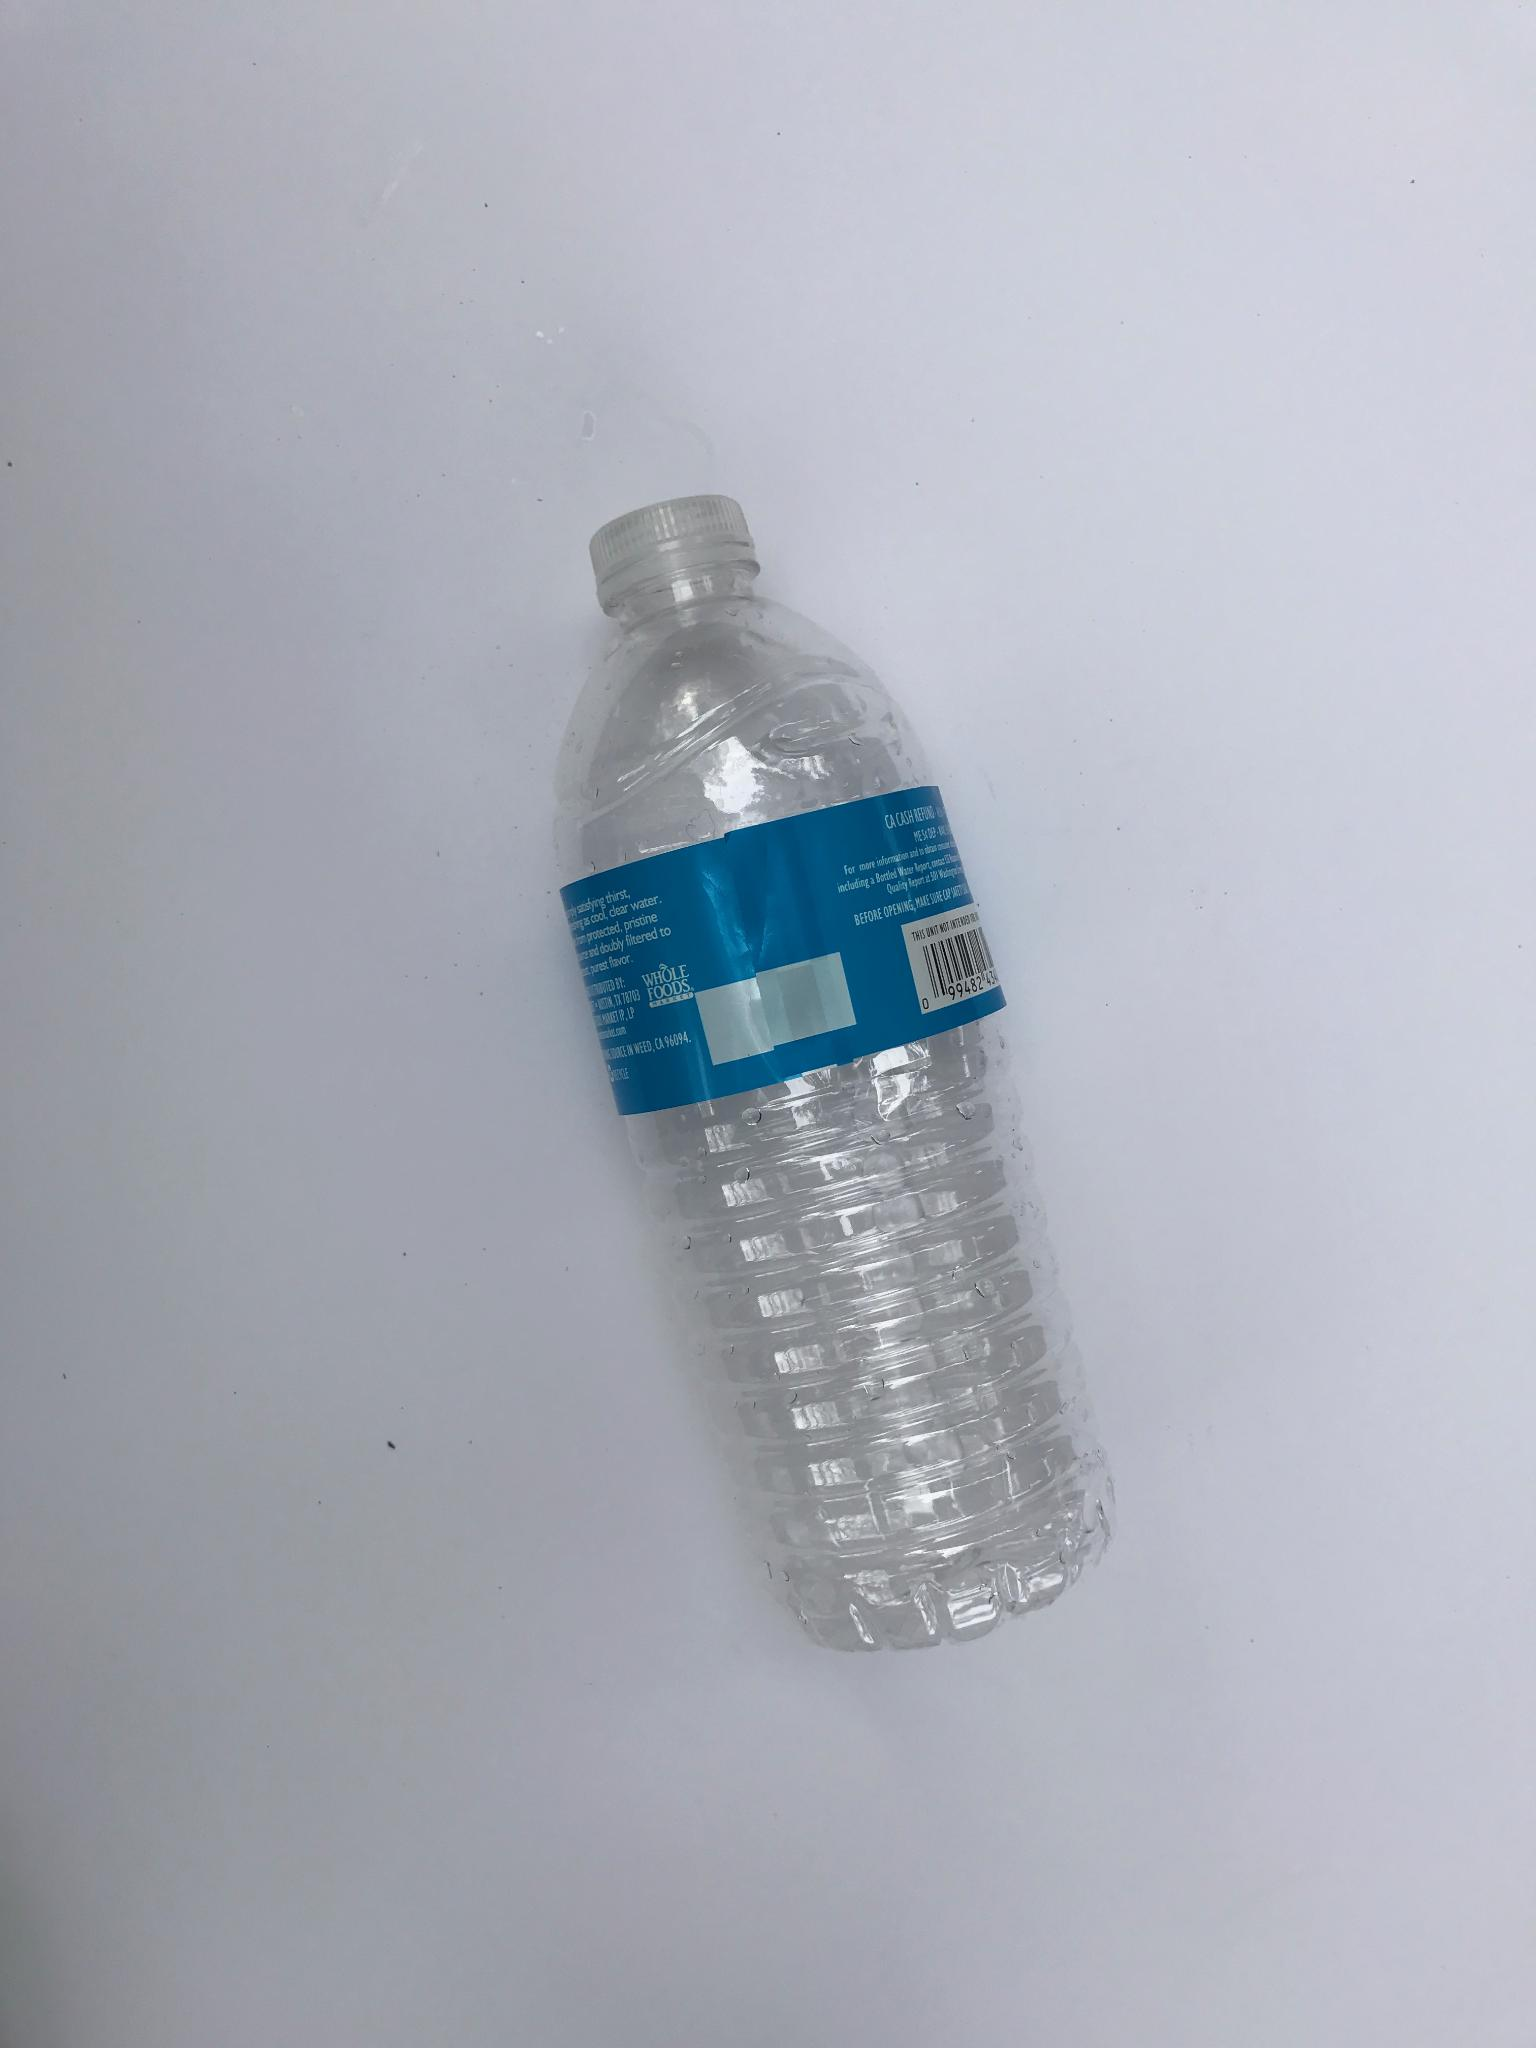Plastic: (560, 460, 1142, 1663)
